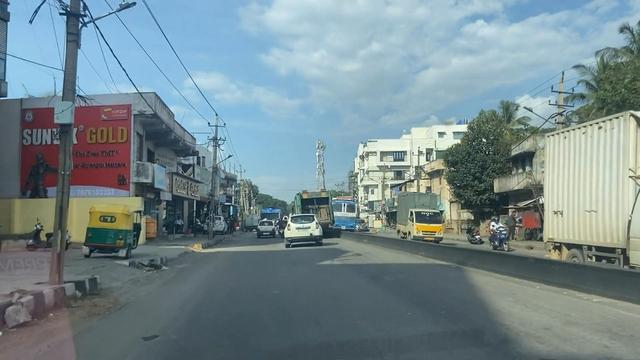LMV: (283, 212, 321, 250)
RoadDamages: (25, 291, 123, 360)
